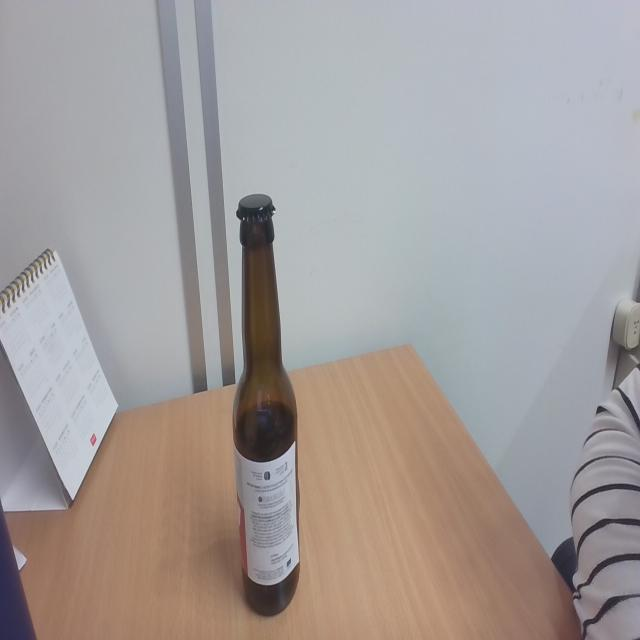Bottle: (233, 192, 300, 618)
Cap: (234, 191, 278, 227)
Label: (238, 446, 298, 586)
